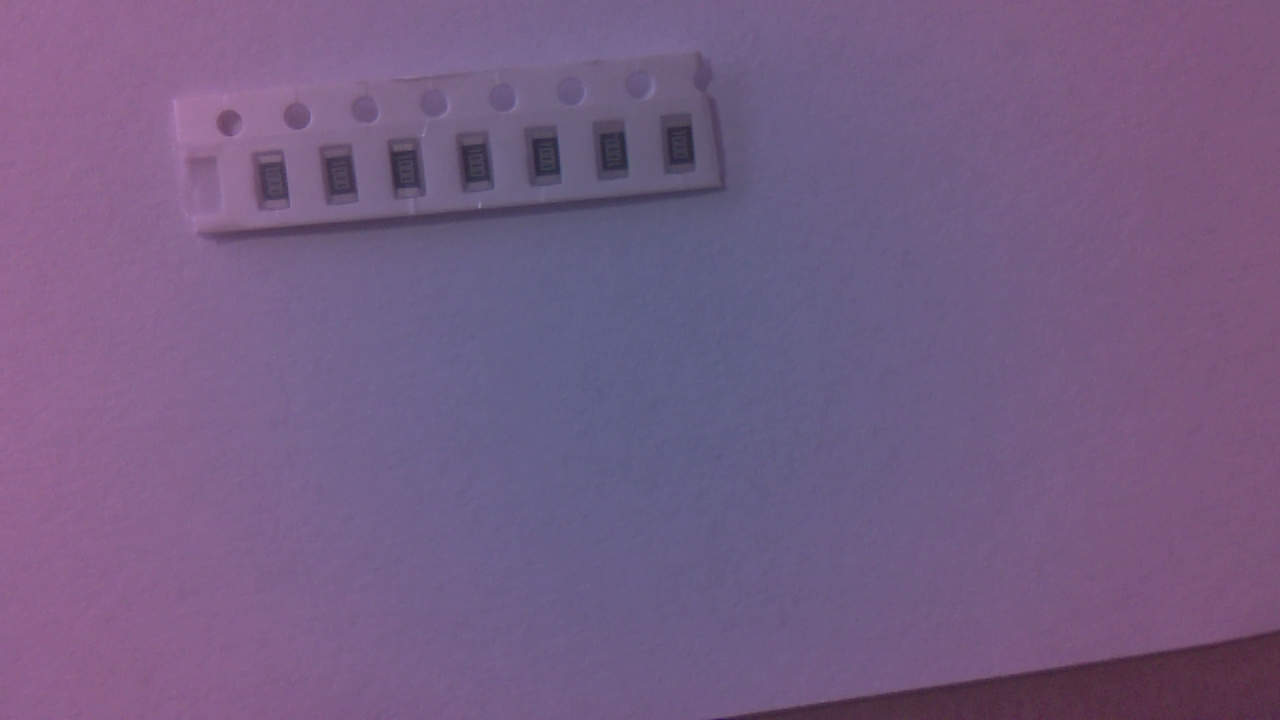Resistor: (256, 154, 299, 219), (596, 125, 637, 187), (529, 127, 570, 189), (394, 143, 432, 206), (463, 134, 500, 197), (665, 121, 702, 178), (326, 148, 357, 208)
